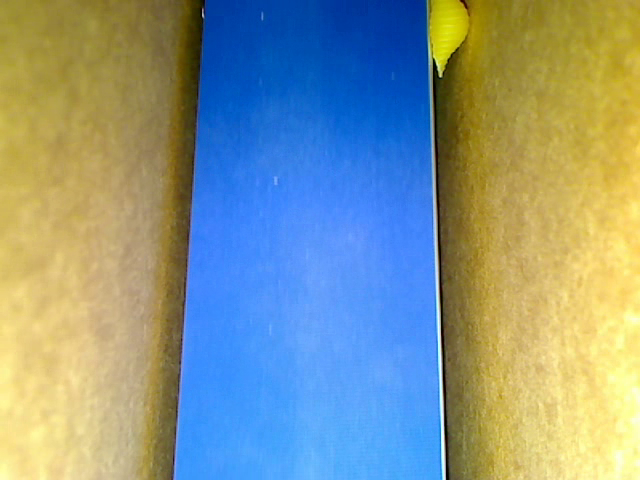shell: (425, 1, 470, 84)
